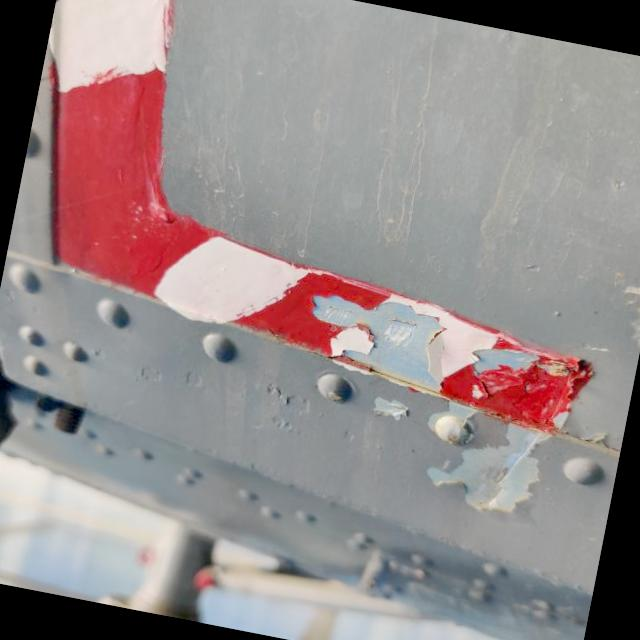paint-off: (266, 240, 624, 550)
